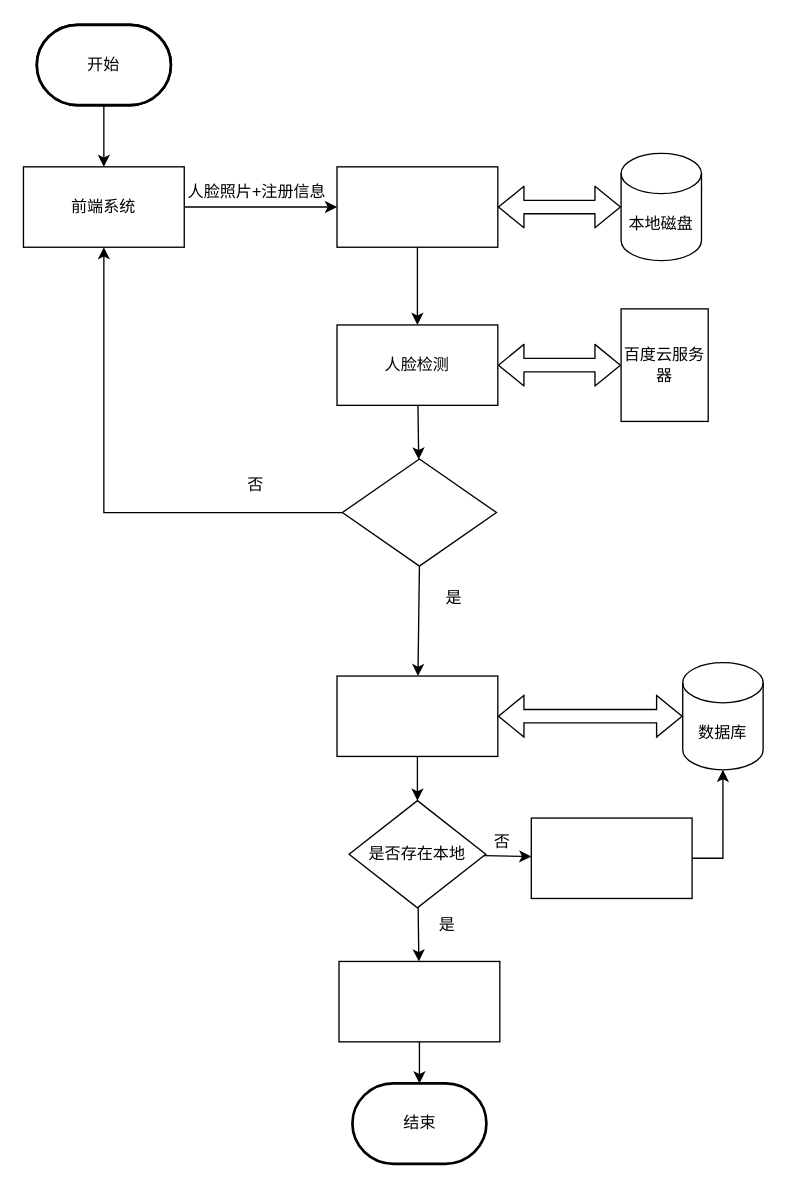
The diagram is 787 pixels wide and 1187 high, and some of its shapes have lost their labels. Each missing label, with the centre of its shape:
"Md5码计算 查询数据库" belongs at [417,715].
"写入数据库" belongs at [611,857].
"删除上传照片" belongs at [419,1001].
"提取人脸照片 学号命名照片" belongs at [417,206].
"是否存在人脸" belongs at [418,512].
